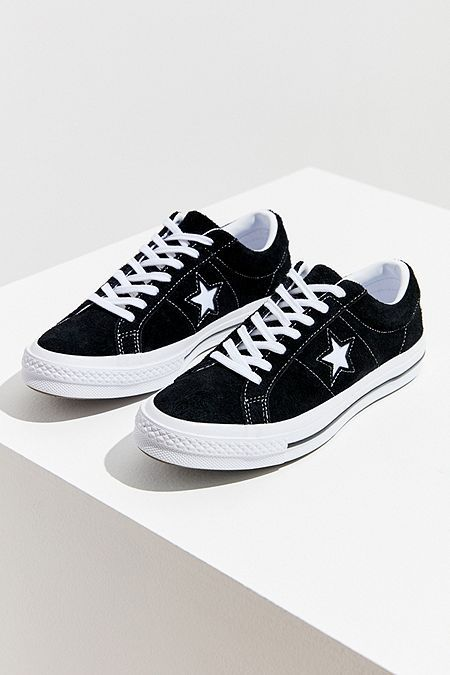gamuza: (39, 211, 424, 426)
